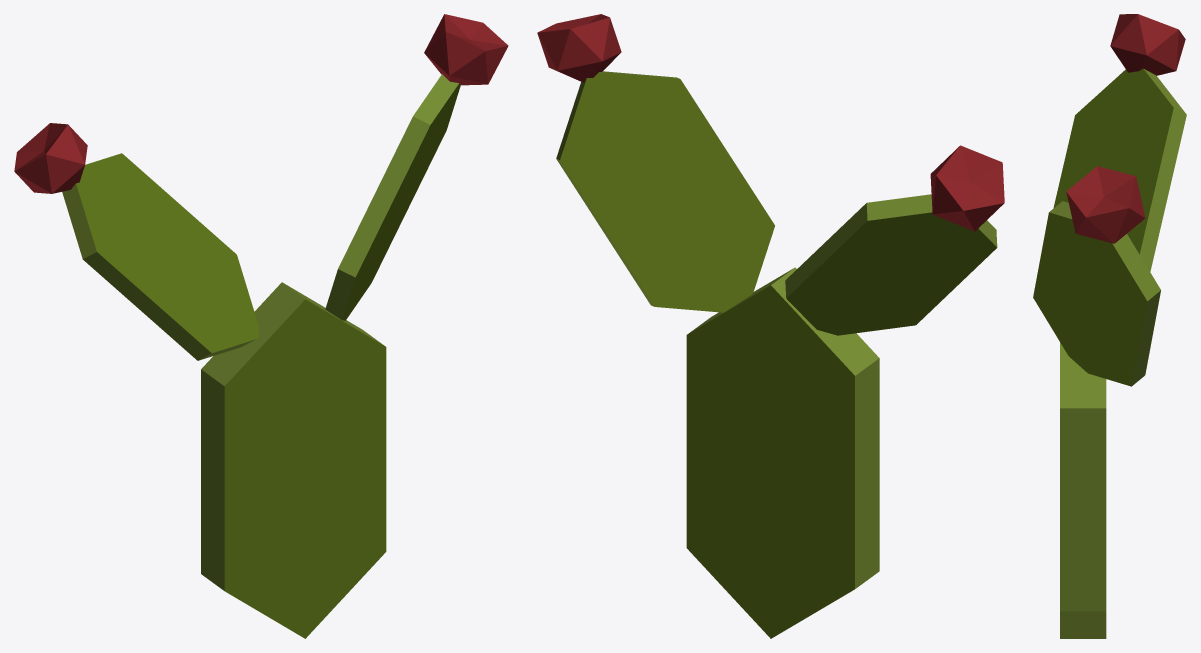
File: TB_D_Env_CactusF_A.FBX
3 views of the same model, side by side, from view 1: azimuth 30°, elevation 25°; view 2: azimuth 150°, elevation 25°; view 3: azimuth 270°, elevation 25° (orthographic). The views are drawn at different scales.
Parts seen in each view (by area): view 1: TB_D_Env_CactusF_A; view 2: TB_D_Env_CactusF_A; view 3: TB_D_Env_CactusF_A.
Boxes of the visible parts, x1,y1,x2,y2 form: TB_D_Env_CactusF_A: (14,14,508,638); TB_D_Env_CactusF_A: (537,14,1004,638); TB_D_Env_CactusF_A: (1033,14,1186,638).
Size of the model in its own units: 0.9513 by 1.09 by 0.2765.
